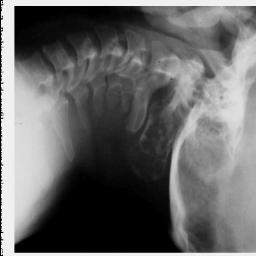cancer: (128, 92, 192, 181)
